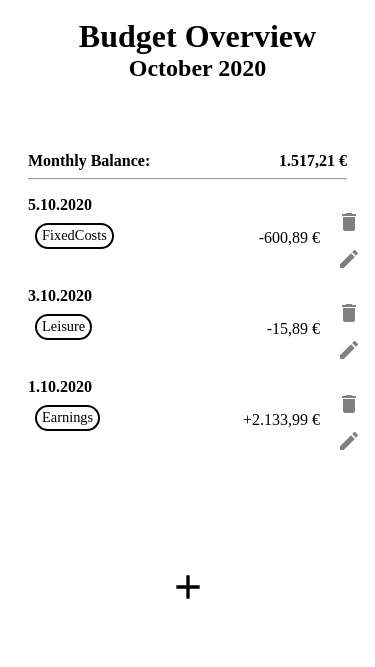
Test: Homepage › .click() - on the Add-Button
Click the link.
click(188, 587)  # box [168,567,208,607]
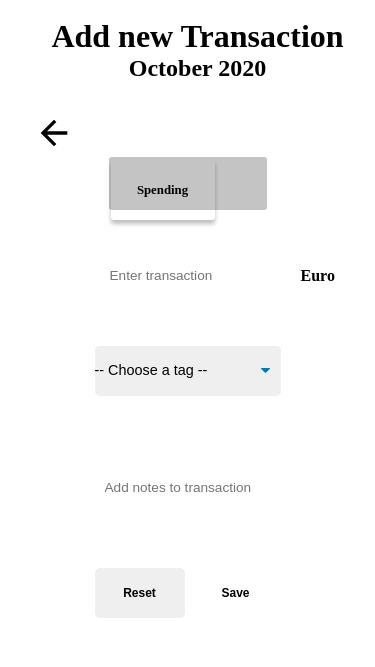
Expected: the heading "Add new Transaction" is shown, [51,18,344,54]
